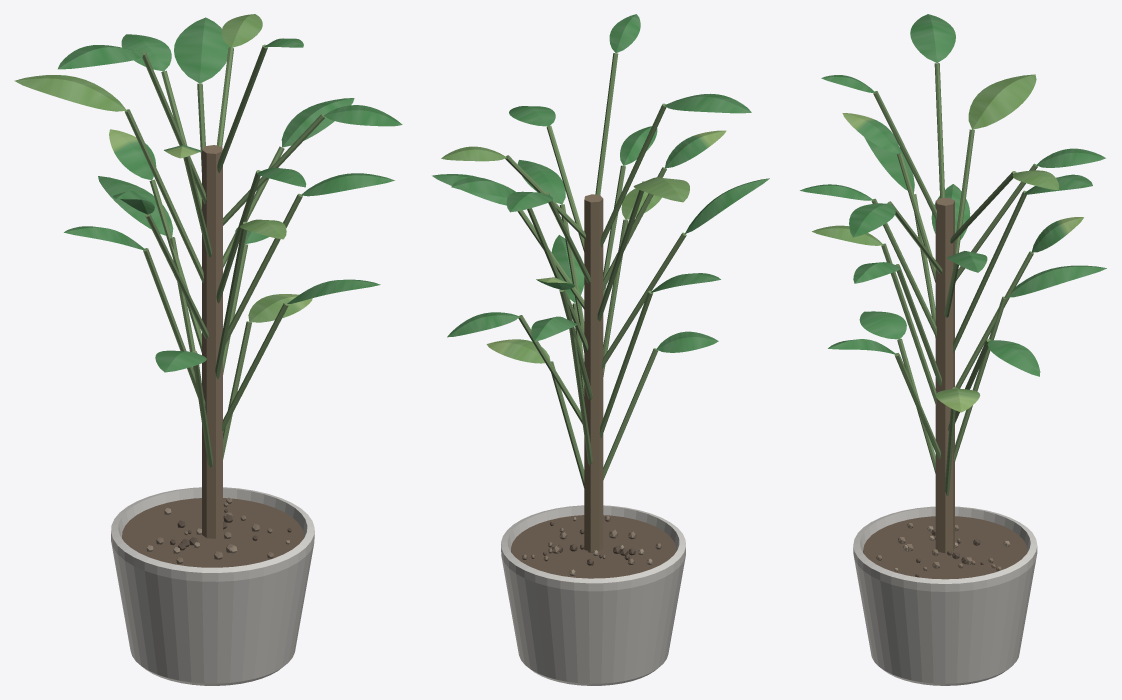
The model's file is ficus-elastica_LUMA_3D.glb.
3 renders of one model, left to right at view 1: azimuth 30°, elevation 25°; view 2: azimuth 150°, elevation 25°; view 3: azimuth 270°, elevation 25°, orthographic. The views are drawn at different scales.
Visible parts, largest first — view 1: world; view 2: world; view 3: world.
Boxes of the visible parts, bbox=[...] form: world: bbox=[14, 14, 402, 685]; world: bbox=[432, 14, 769, 685]; world: bbox=[800, 14, 1106, 685].
Bounding box in the file's own units: 1.55 × 2.96 × 1.41.
